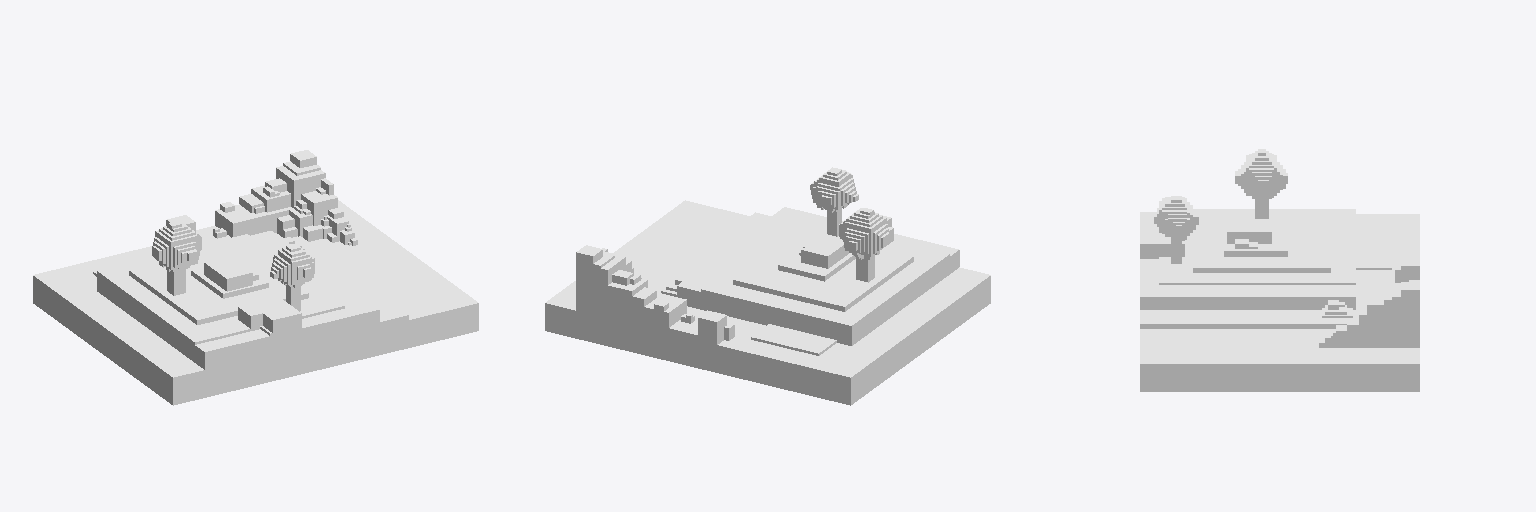
Rendered from GreenStage.obj.
The picture shows the model from 3 angles: view 1: azimuth 30°, elevation 25°; view 2: azimuth 150°, elevation 25°; view 3: azimuth 270°, elevation 25°; orthographic projection.
Parts seen in each view (by area): view 1: GreenStage; view 2: GreenStage; view 3: GreenStage.
Boxes of the visible parts, x1=… form: GreenStage: x1=33, y1=150, x2=478, y2=405; GreenStage: x1=545, y1=167, x2=990, y2=405; GreenStage: x1=1140, y1=149, x2=1419, y2=391.
Bounding box in the file's own units: 126 × 48 × 100.